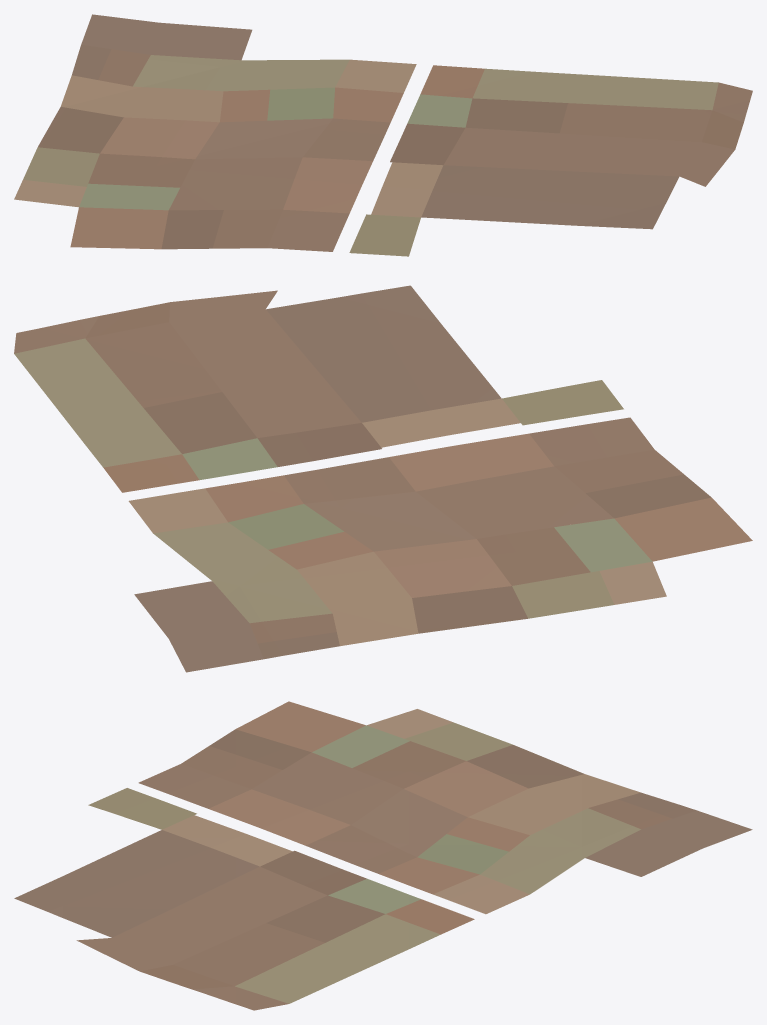
File: farm_-7_2_soil.glb
The picture shows the model from 3 angles, top to bottom: view 1: azimuth 30°, elevation 25°; view 2: azimuth 150°, elevation 25°; view 3: azimuth 270°, elevation 25°; orthographic projection. The views are drawn at different scales.
Visible parts, largest first — view 1: geometry_0; view 2: geometry_0; view 3: geometry_0.
Boxes of the visible parts, x1,y1,x2,y2 form: geometry_0: (14,14,752,256); geometry_0: (14,285,752,672); geometry_0: (14,701,752,1010).
Bounding box in the file's own units: 346 × 9.22 × 342.
